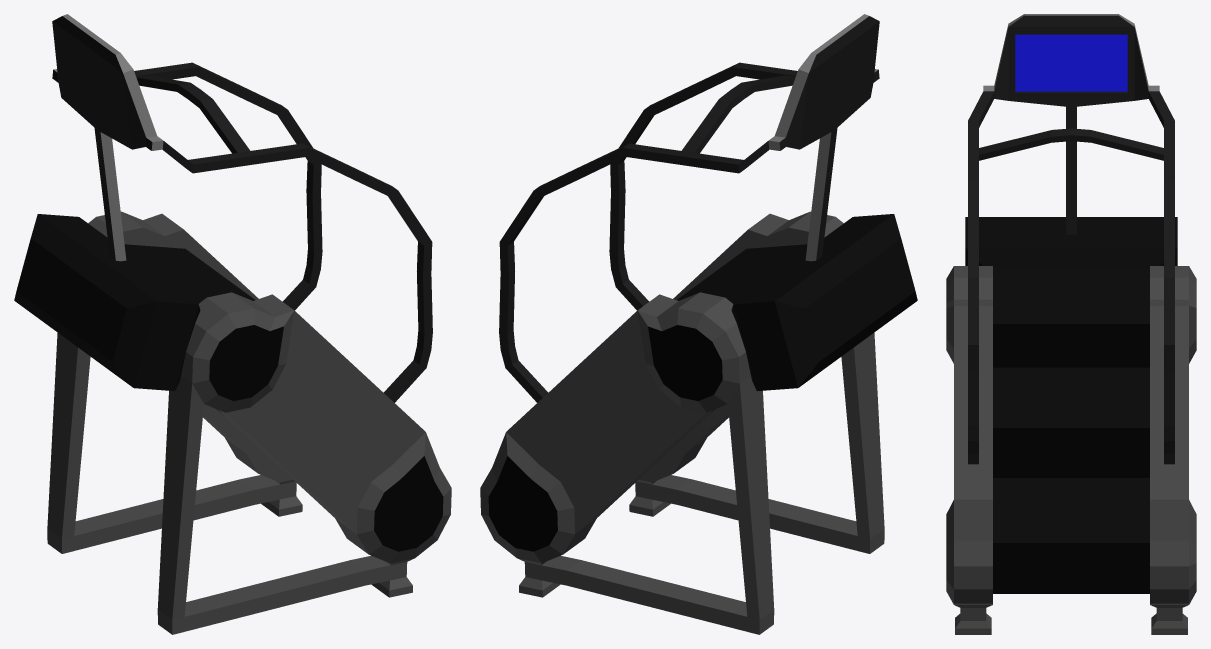
Rendered from StairClimber.fbx.
The picture shows the model from 3 angles, left to right: view 1: azimuth 30°, elevation 25°; view 2: azimuth 150°, elevation 25°; view 3: azimuth 270°, elevation 25°; orthographic projection. The views are drawn at different scales.
Visible parts, largest first — view 1: StairClimber; view 2: StairClimber; view 3: StairClimber.
Part boxes in pixels (x1,y1,x2,y2): StairClimber: (14,14,451,634); StairClimber: (480,14,917,634); StairClimber: (946,14,1196,634).
Bounding box in the file's own units: 130 × 221 × 98.42.
